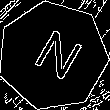N_SW: (23, 24, 83, 88)
